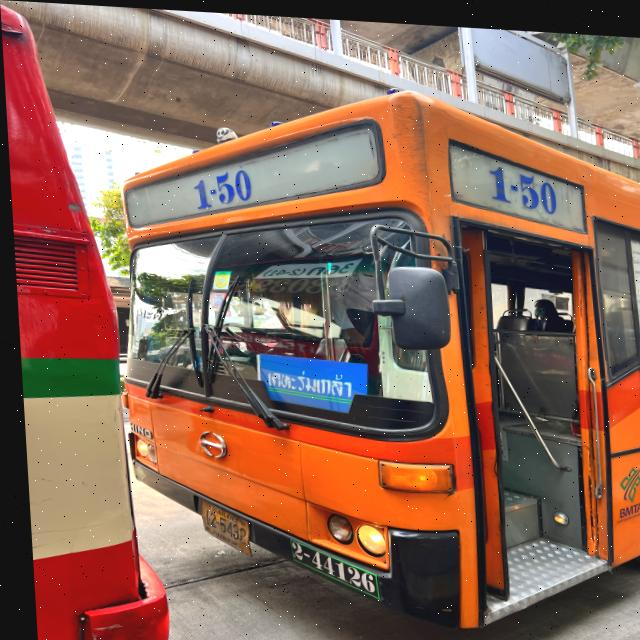BMTA-bus: (101, 73, 640, 636)
Bus-Line-Number: (475, 152, 563, 211), (183, 161, 259, 214)
Destination-Sign-Normal: (249, 348, 364, 415)
